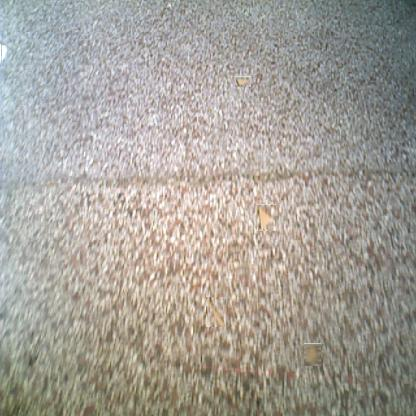dirty: (206, 297, 226, 327), (256, 204, 276, 231), (302, 345, 323, 365), (235, 76, 251, 87), (1, 42, 7, 66)
